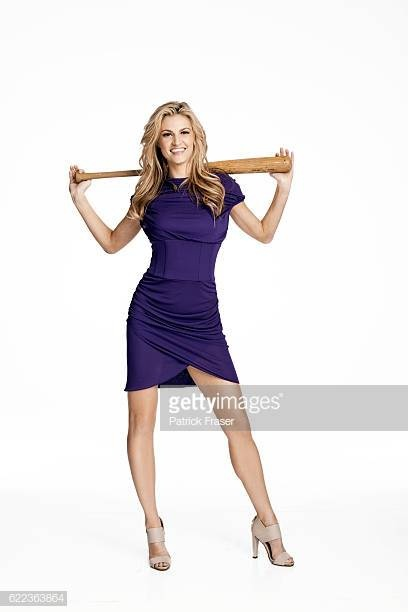bita: (71, 159, 286, 186)
